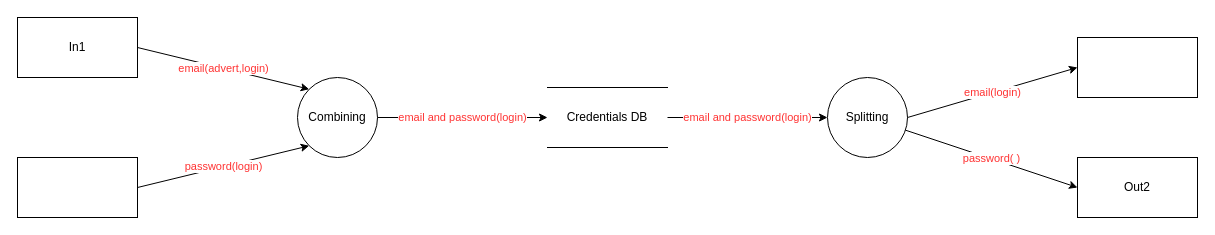
The diagram is 1215 pixels wide and 235 high, and some of its shapes have lost their labels. Each missing label, with the centre of its shape:
"In2" belongs at point (77, 187).
"Out1" belongs at point (1137, 67).
